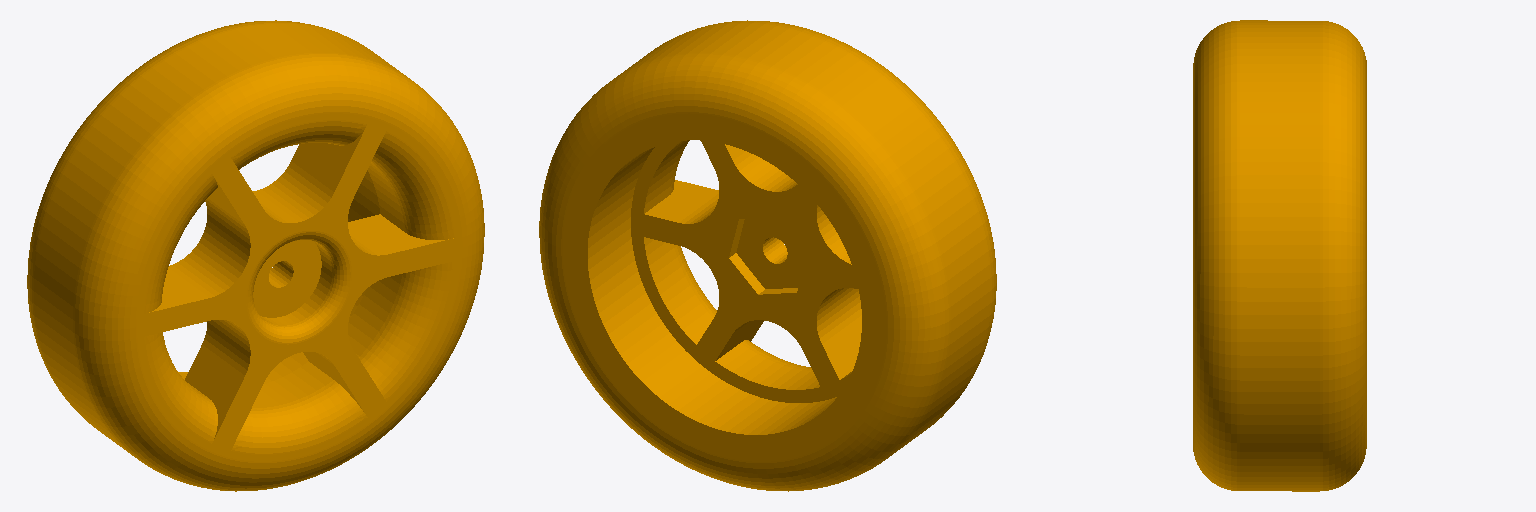
robot.urdf — michiyo:
<?xml version="1.0"?>
<robot name="michiyo">
  <link name="wheel">
    <!-- <inertial> -->
    <!--   <mass value="1"/> -->
    <!--   <inertia ixx="100" ixy="0" ixz="0" iyy="100" iyz="0" izz="100" /> -->
    <!--   <origin/> -->
    <!-- </inertial> -->

    <visual>
      <origin xyz="0 0 0" rpy="1.57 0 0" />
      <geometry>
	<mesh filename="package://michiyo_description/meshes/tire/tire.dae" /><!-- scale="0 0 0"/> -->
      </geometry>
    </visual>

    <!-- <collision> -->
    <!--   <origin xyz="0 0 0" rpy="1.57 0 0" /> -->
    <!--   <geometry> -->
    <!-- 	<mesh filename="$(find r2d2)/mesh/tire.stl"/> -->
    <!--   </geometry> -->
    <!-- </collision> -->
  </link>

</robot>

--- Facts derived from the render (not from the file) ---
The picture shows the robot from 3 angles, left to right: view 1: azimuth 30°, elevation 25°; view 2: azimuth 150°, elevation 25°; view 3: azimuth 270°, elevation 25°; orthographic projection.
Robot: michiyo — 1 links, 0 joints (none); root link wheel; default pose: all joints at 0.
Visible links, largest first — view 1: wheel; view 2: wheel; view 3: wheel.
Boxes of the visible links, bbox=[...] form: wheel: bbox=[27, 20, 484, 491]; wheel: bbox=[539, 20, 996, 491]; wheel: bbox=[1193, 20, 1366, 491].
Size in the robot's own frame: 6.5 by 2.4 by 6.5 metres.
Meshes: 1 distinct files referenced, 1 mesh visuals loaded (1 Collada DAE).
